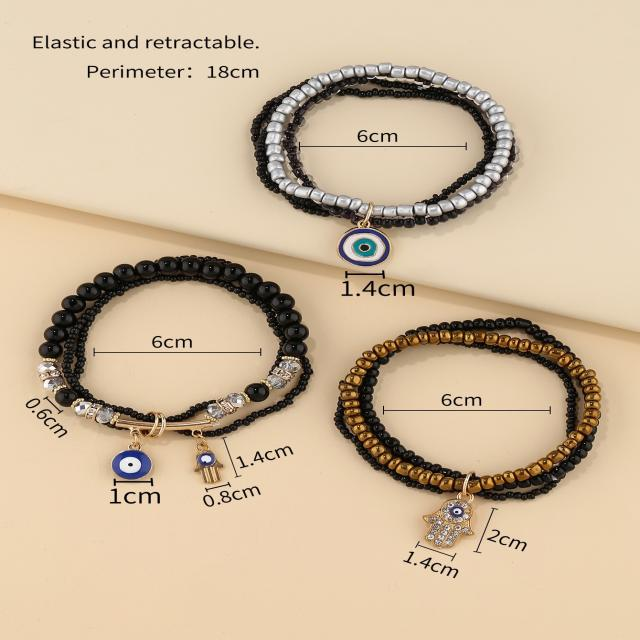bracelet: (180, 0, 577, 280), (325, 301, 640, 567), (13, 236, 332, 488)
